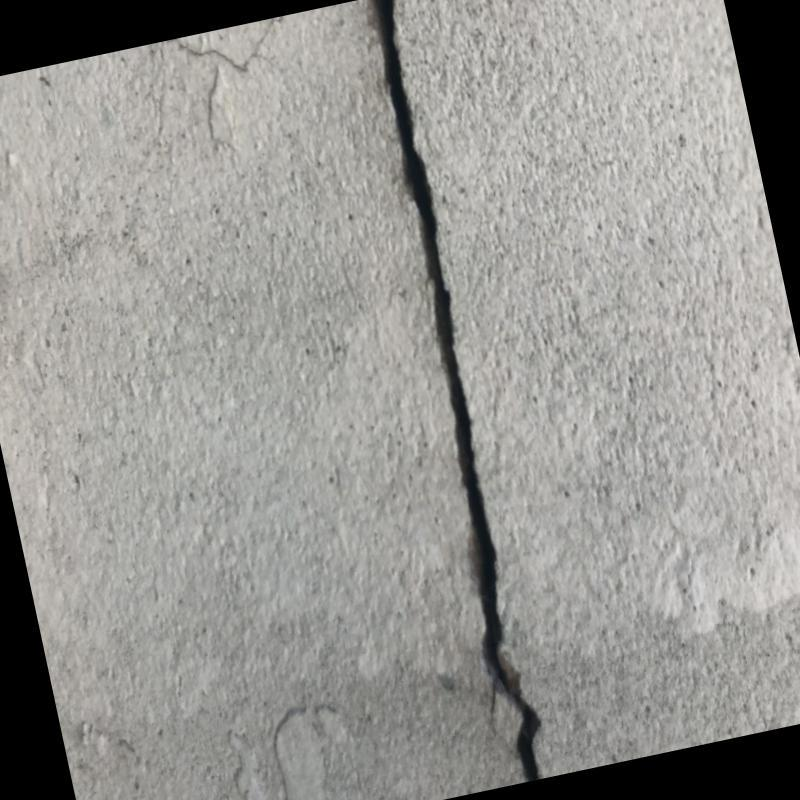pothole: (370, 0, 543, 780)
